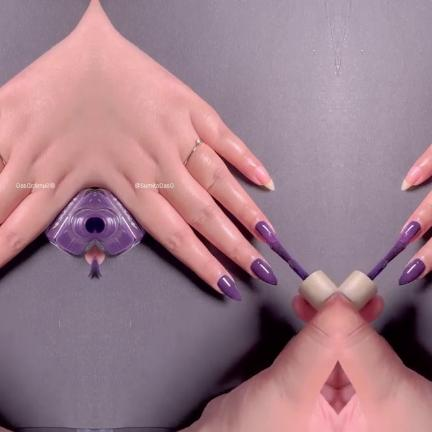Nail: (249, 258, 277, 286), (397, 258, 425, 286), (216, 275, 240, 301), (254, 167, 274, 191), (400, 167, 420, 191), (254, 221, 274, 242), (400, 221, 420, 242), (94, 256, 102, 278), (86, 256, 94, 278)
